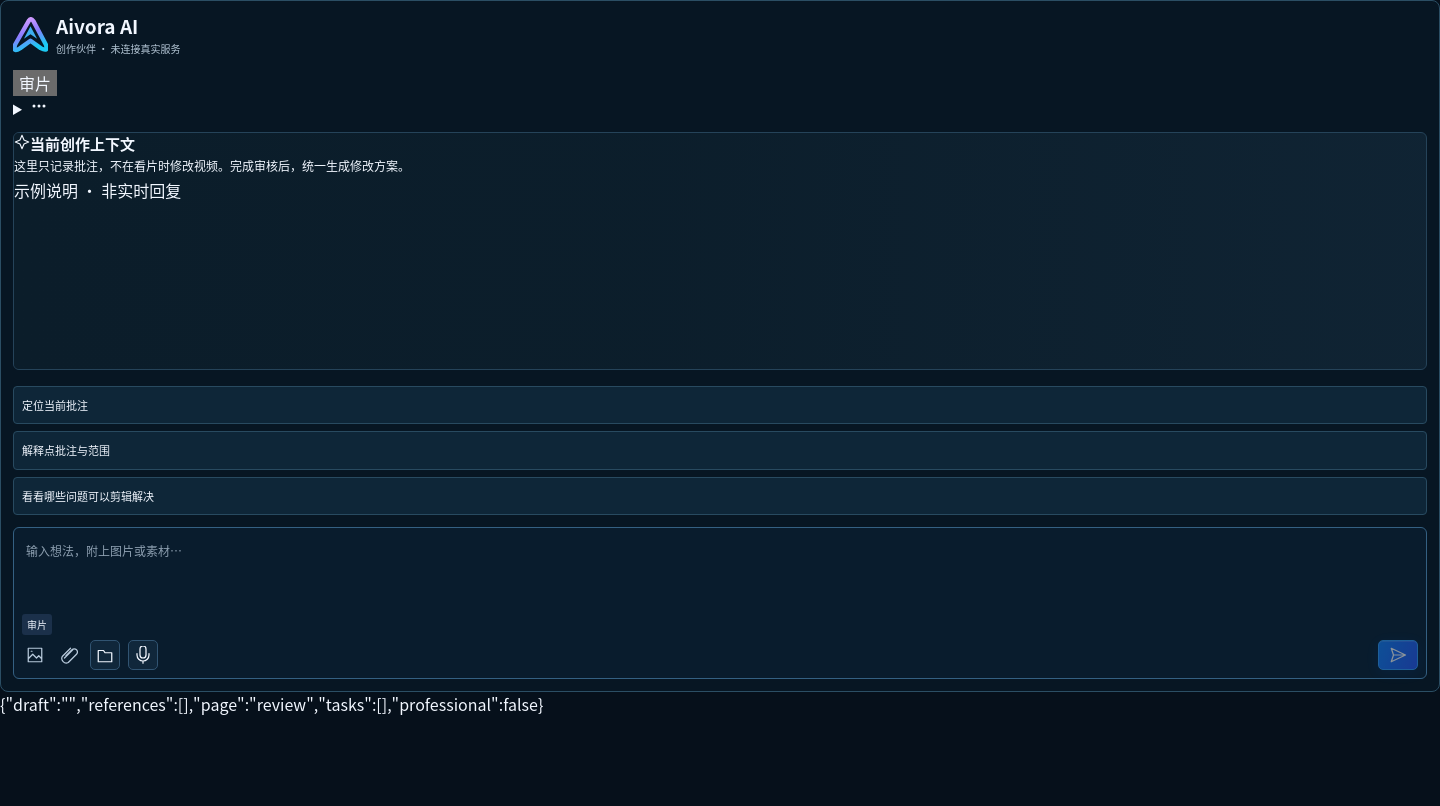
Test: C19 assistant real interaction boundaries › saves a ctrl-enter draft locally and lets the user inspect its captured context
Type "保留结尾停顿" into the text box named "AI 输入" at coordinates (720, 573), box [22,536,1418,609]
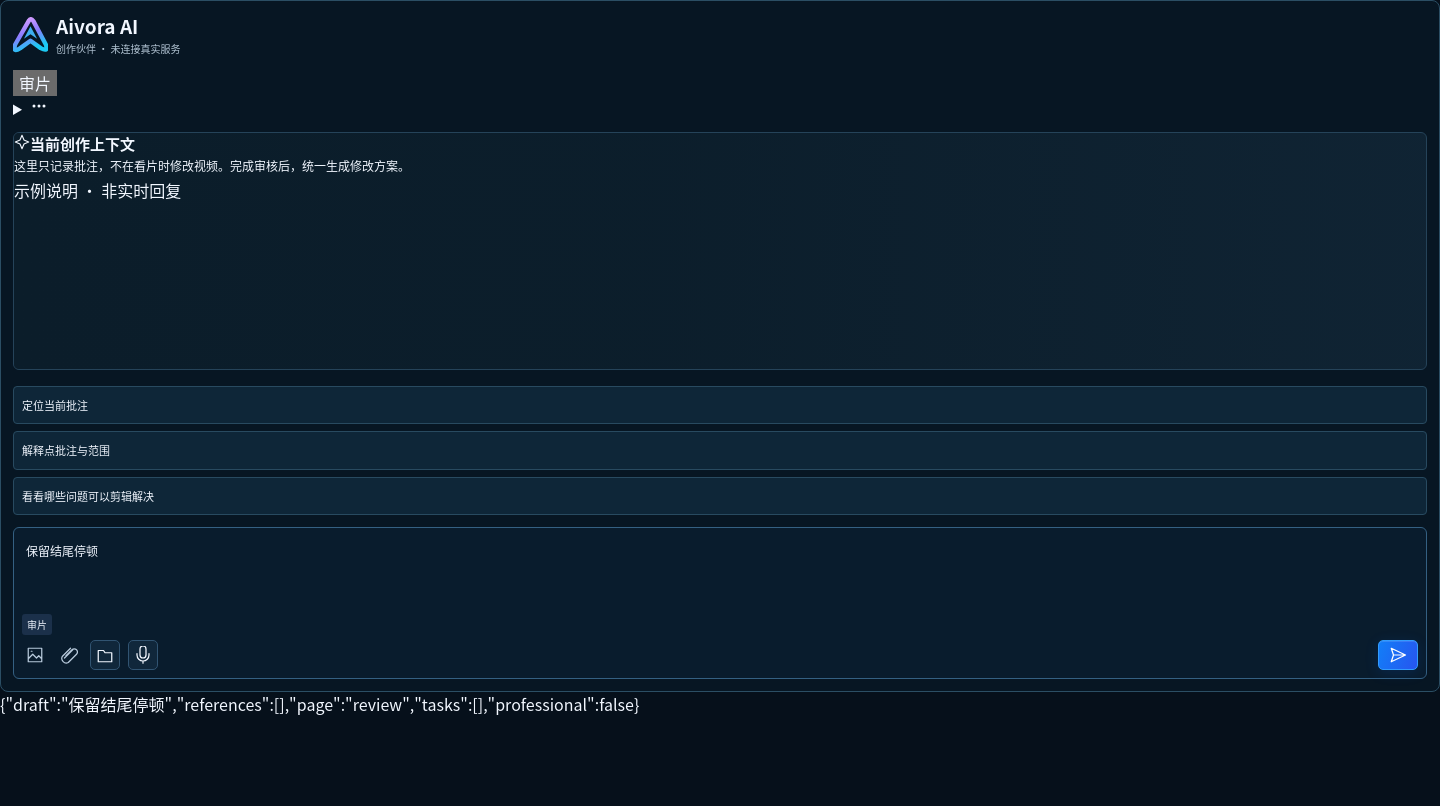
Press Enter in the text box named "AI 输入", box [22,536,1418,609]
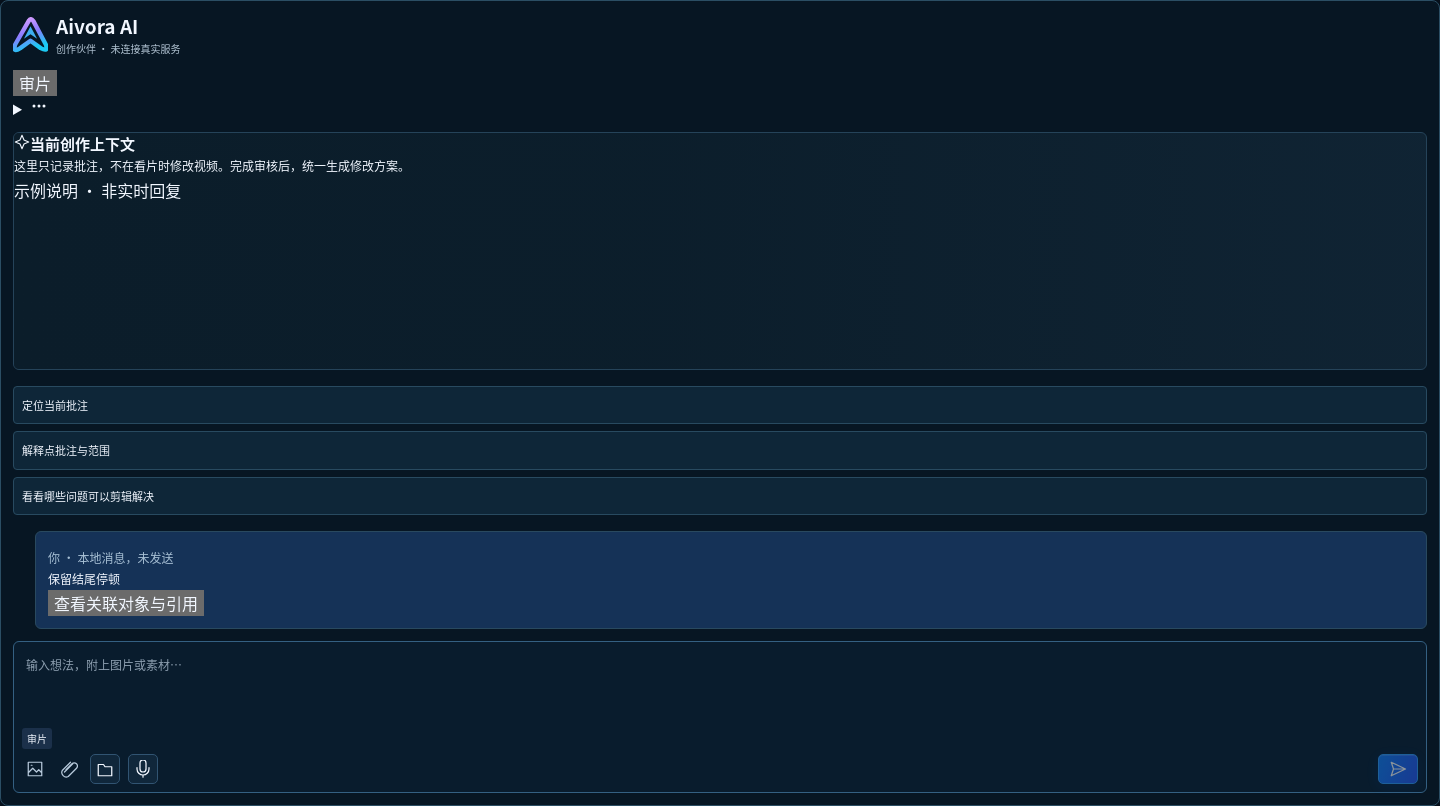
Expected: the text "你 · 本地消息，未发送" is shown, [48,549,173,566]
Click the button "查看关联对象与引用" at coordinates (126, 603), box [48,590,204,616]
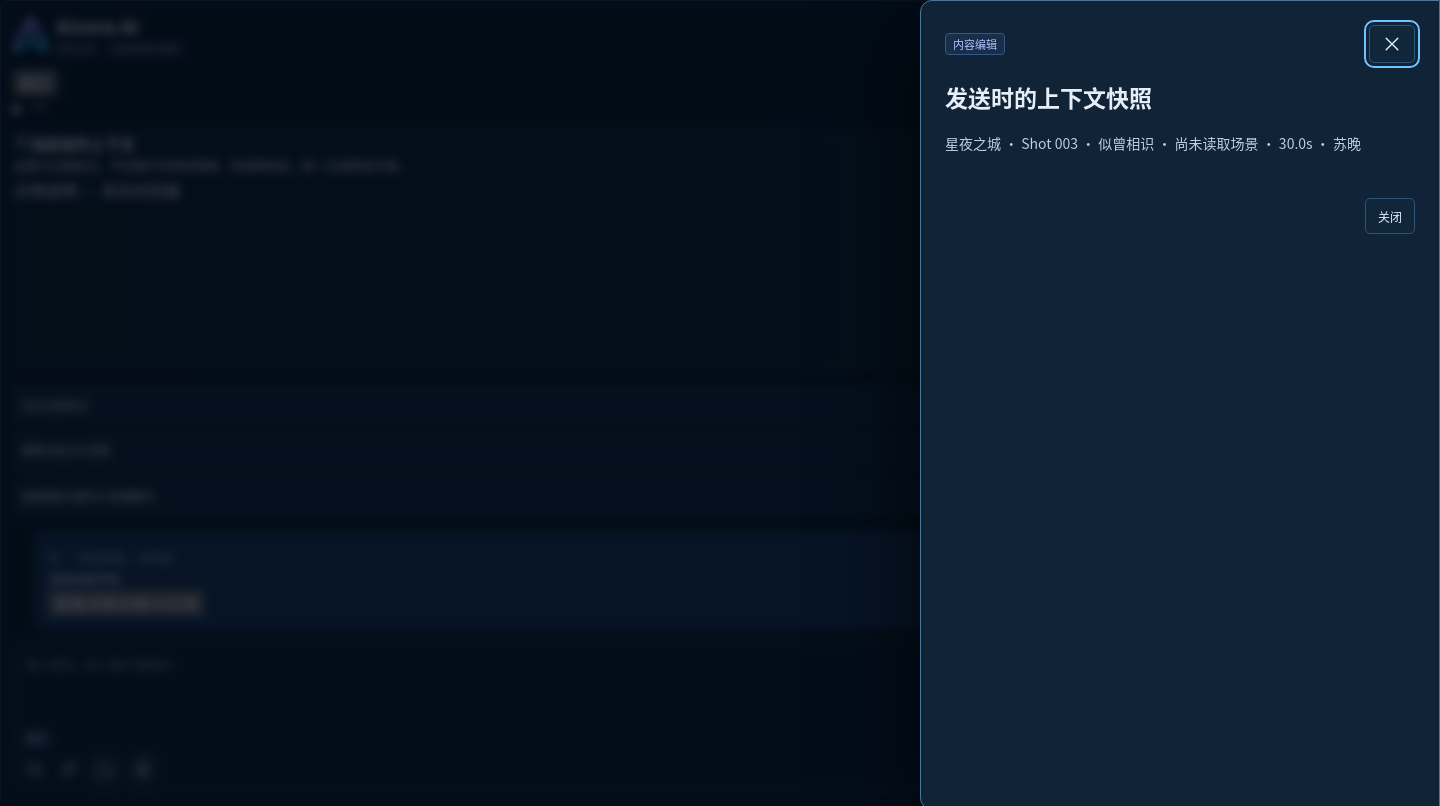
Expected: the dialog shows "发送时的上下文快照", [945,80,1152,114]
Expected: the dialog shows "Shot 003 · 似曾相识", [945,133,1361,153]
